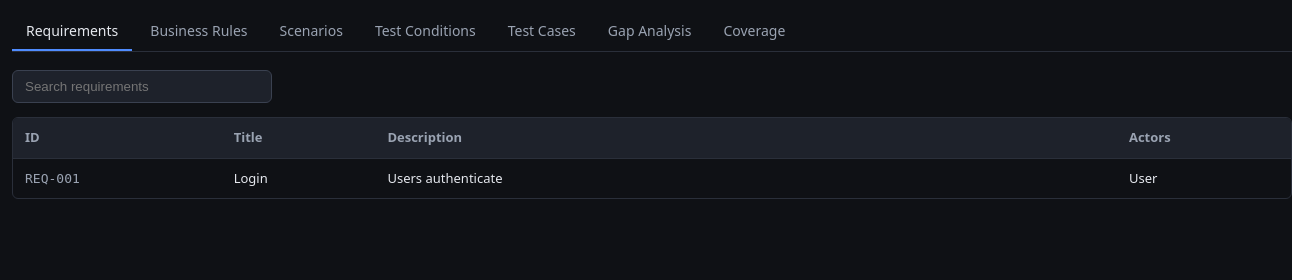
Results › renders test conditions with their evidence and status
The width and height of the screenshot is (1292, 280).
Click the tab "Test Conditions" at (425, 32), box x1=361 y1=12 x2=490 y2=51
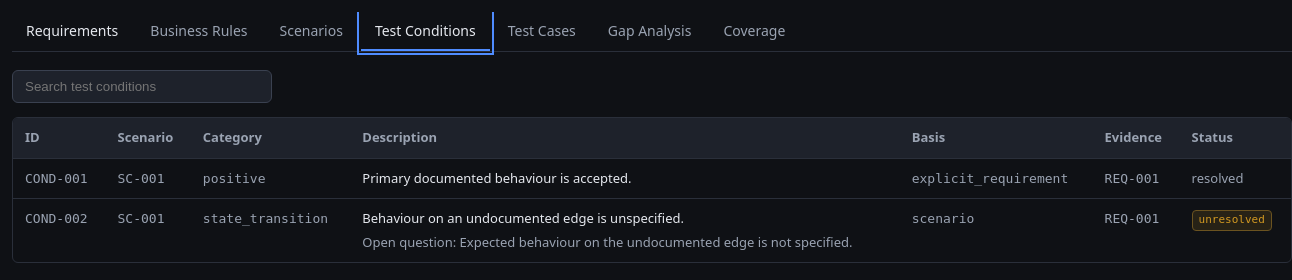
Check: the text "COND-001" is shown, box x1=13 y1=158 x2=106 y2=198
Check: the text "COND-002" is shown, box x1=13 y1=198 x2=106 y2=262
Check: the text "unresolved" is shown, box x1=1192 y1=210 x2=1272 y2=230
